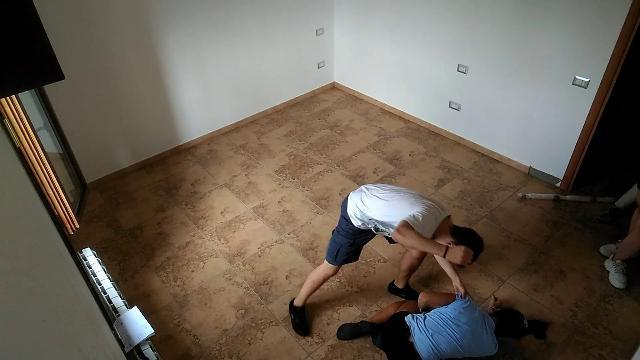non-violence: (598, 206, 640, 289)
violence: (286, 182, 536, 360)
